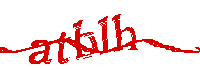a: (29, 38, 52, 67)
b: (71, 18, 96, 59)
h: (112, 12, 140, 55)
l: (96, 13, 113, 55)
t: (54, 31, 70, 66)
